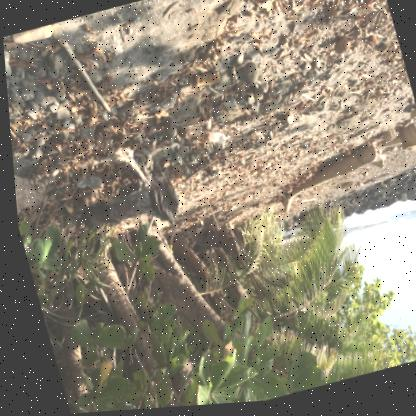Plastic: (205, 133, 223, 147)
Waste: (205, 136, 207, 139)
